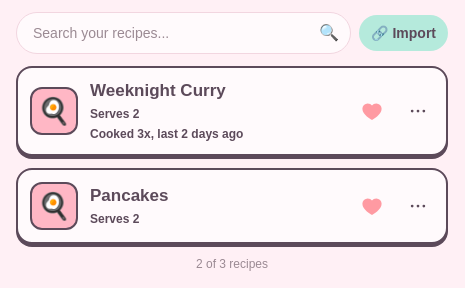
Favorites filter (issue #855) › drops a recipe from the filtered list the moment it is unfavorited
The image size is (465, 288).
Click the button named "Unfavorite: Pancakes" at (372, 206), box [350,184,394,228]
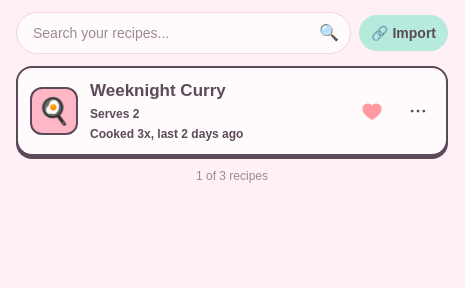
Expected: the button "Pancakes" is gone
